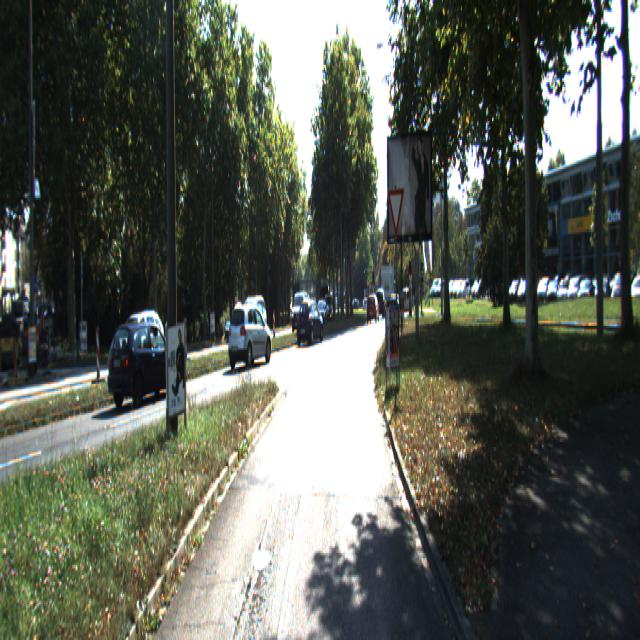Car: (106, 318, 184, 411), (108, 308, 168, 381), (228, 306, 273, 372), (237, 298, 268, 351), (297, 298, 324, 346), (291, 291, 310, 334), (367, 296, 380, 325)
